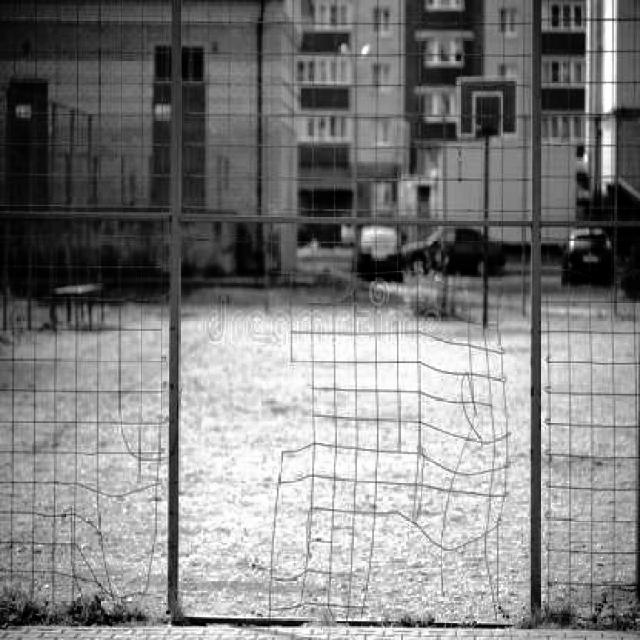anomaly-fence: (53, 158, 581, 624)
